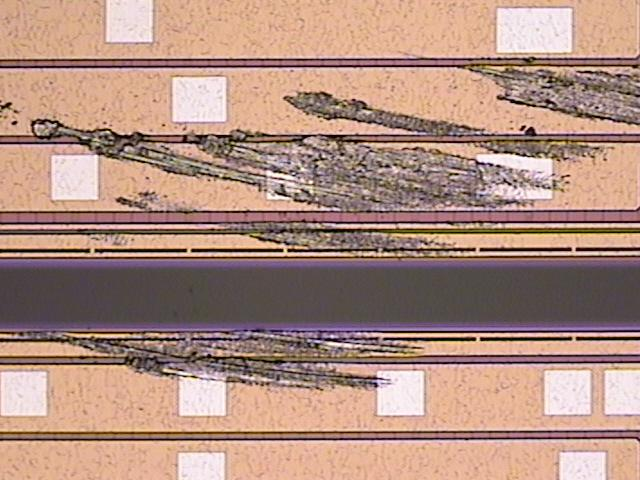SCRATCH: (1, 54, 640, 394)
